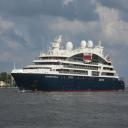cruises: (11, 35, 126, 95)
